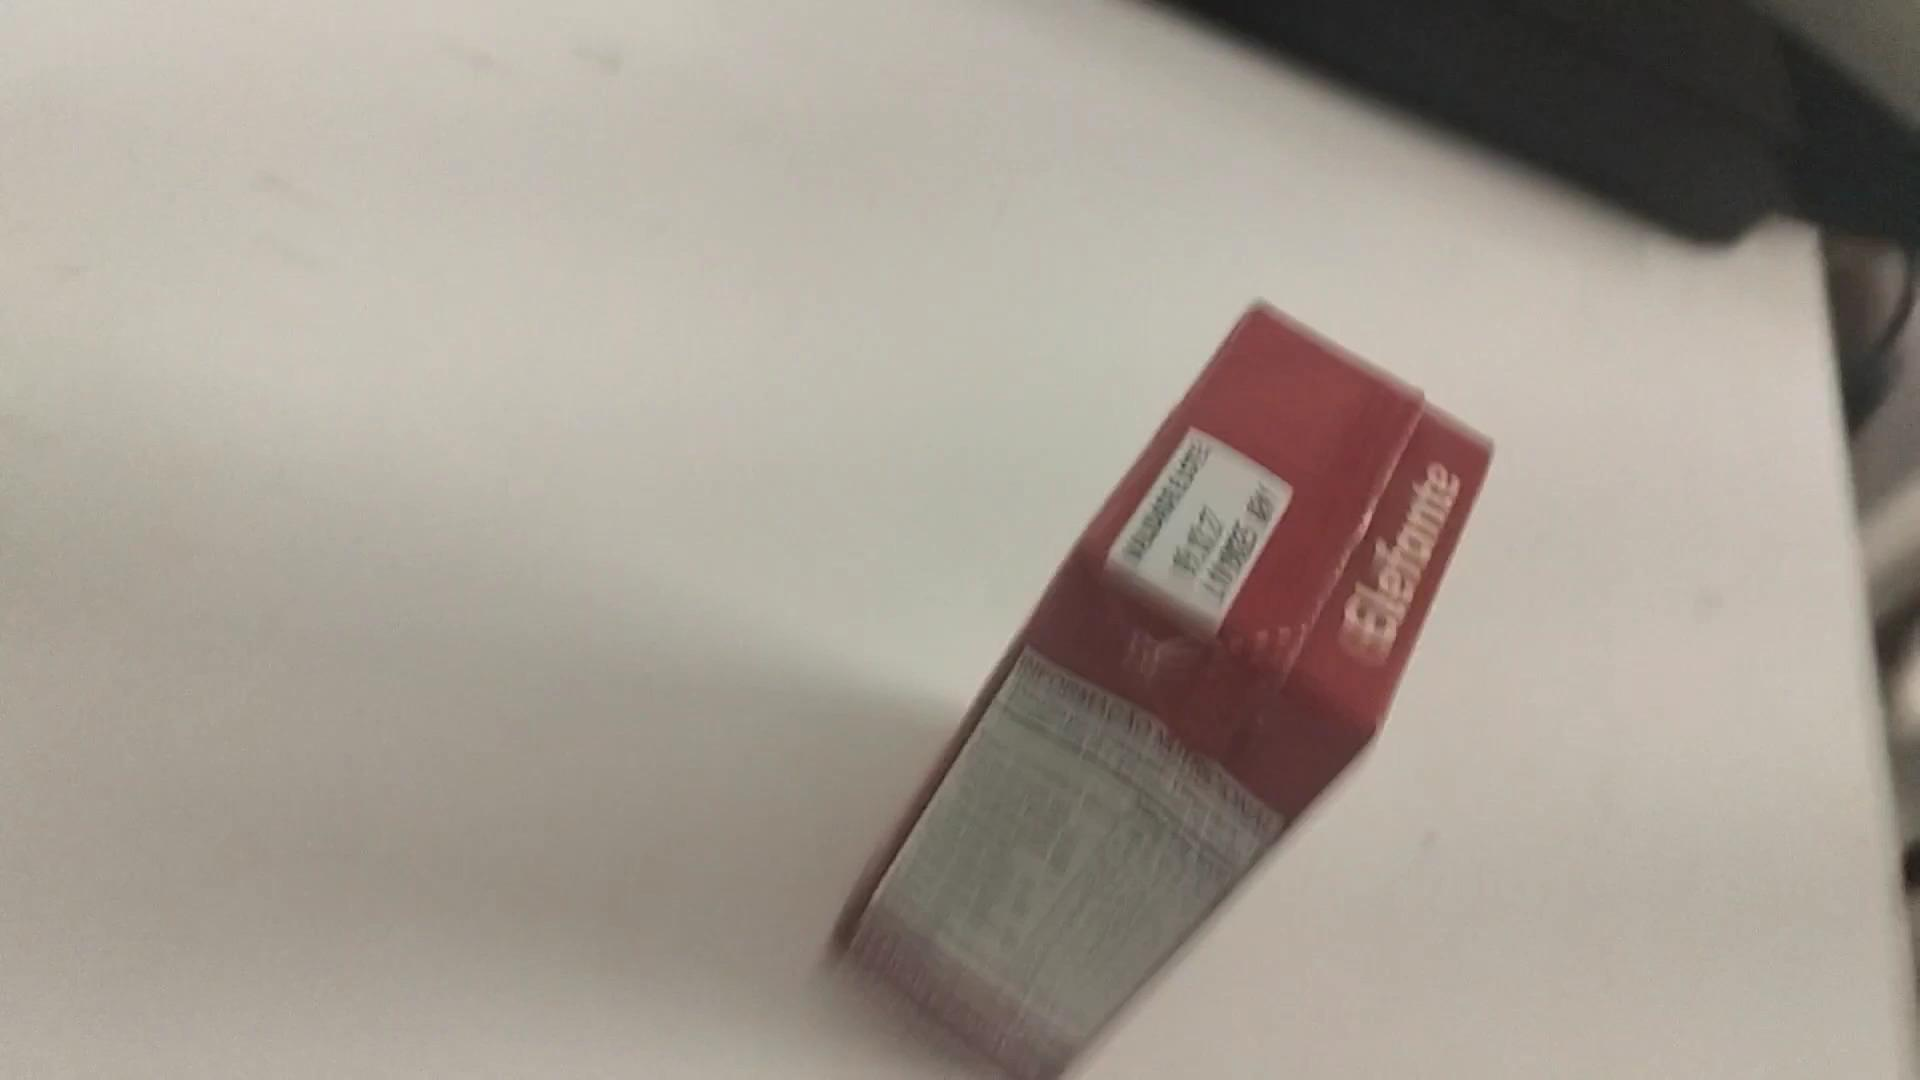tomate: (808, 289, 1520, 1080)
